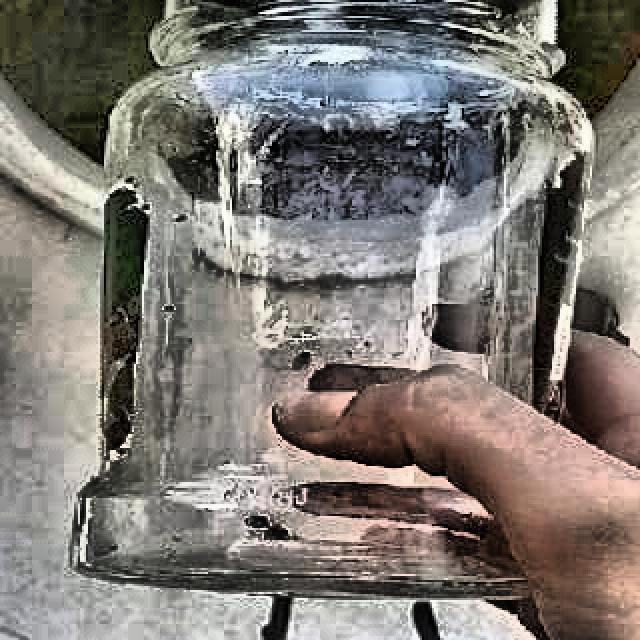glass: (72, 0, 592, 601)
